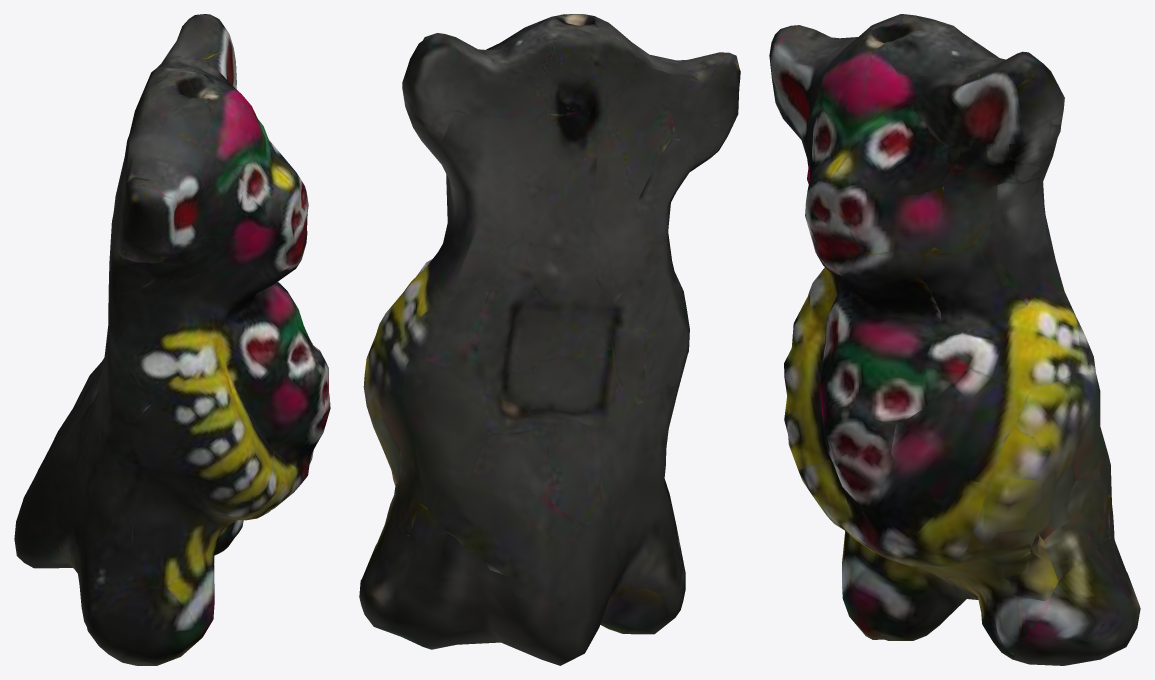
File: hall.glb
3 views of the same model, side by side, from view 1: azimuth 30°, elevation 25°; view 2: azimuth 150°, elevation 25°; view 3: azimuth 270°, elevation 25° (orthographic). The views are drawn at different scales.
Size of the model in its own units: 0.3147 by 0.6886 by 0.3633.
1 material, 1 textured.
